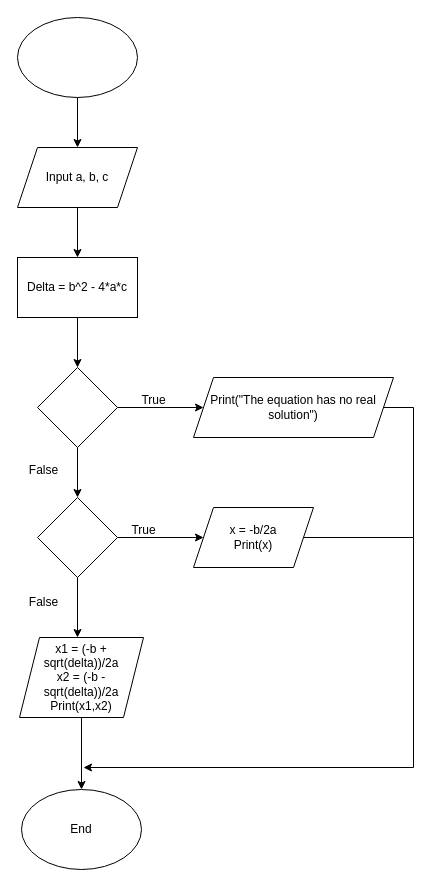
This 439x887 diagram has some shape labels left out. The centre of each missing label's shape, as x and y in pixels:
Delta < 0: point 77,407
Delta = 0: point 77,537
Start: point 77,57
